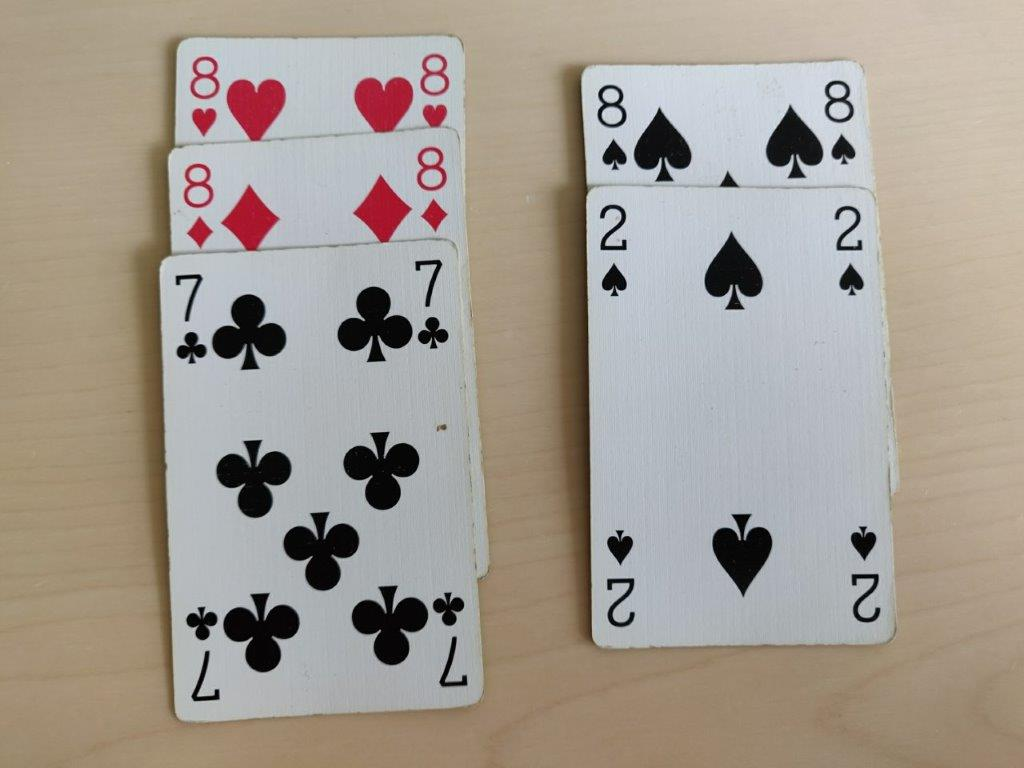2S: (592, 197, 634, 300), (829, 199, 867, 299)
7C: (169, 267, 211, 366), (410, 257, 453, 353)
8D: (176, 153, 219, 253), (411, 142, 453, 236)
8H: (184, 51, 223, 141)
8S: (819, 76, 862, 172), (591, 79, 631, 173)
